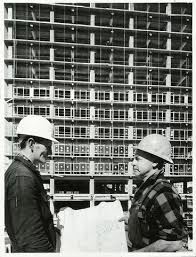hard hat: (131, 134, 175, 163), (16, 115, 59, 144)
